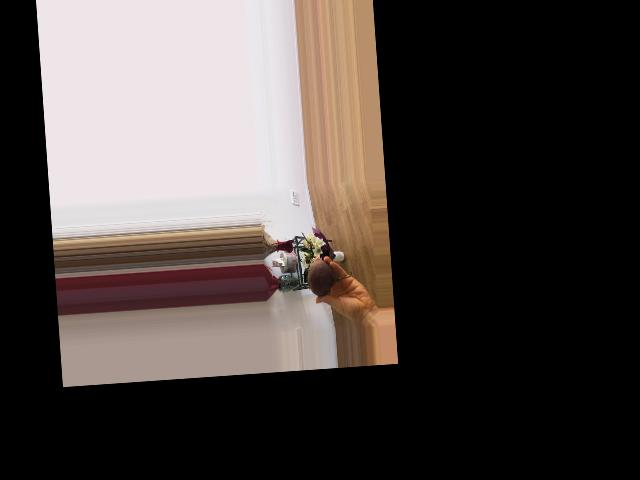beet: (302, 257, 353, 296)
